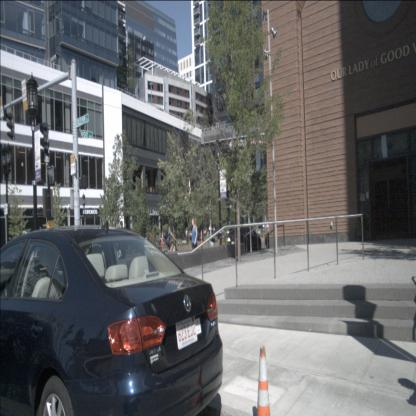human-pedestrian-adult: (188, 218, 198, 266)
movable_object-trafficcone: (256, 345, 271, 415), (200, 229, 204, 250), (160, 229, 163, 249)
vehicle-bicycle: (163, 225, 180, 262)
vehicle-car: (0, 225, 224, 415), (227, 226, 261, 258)
